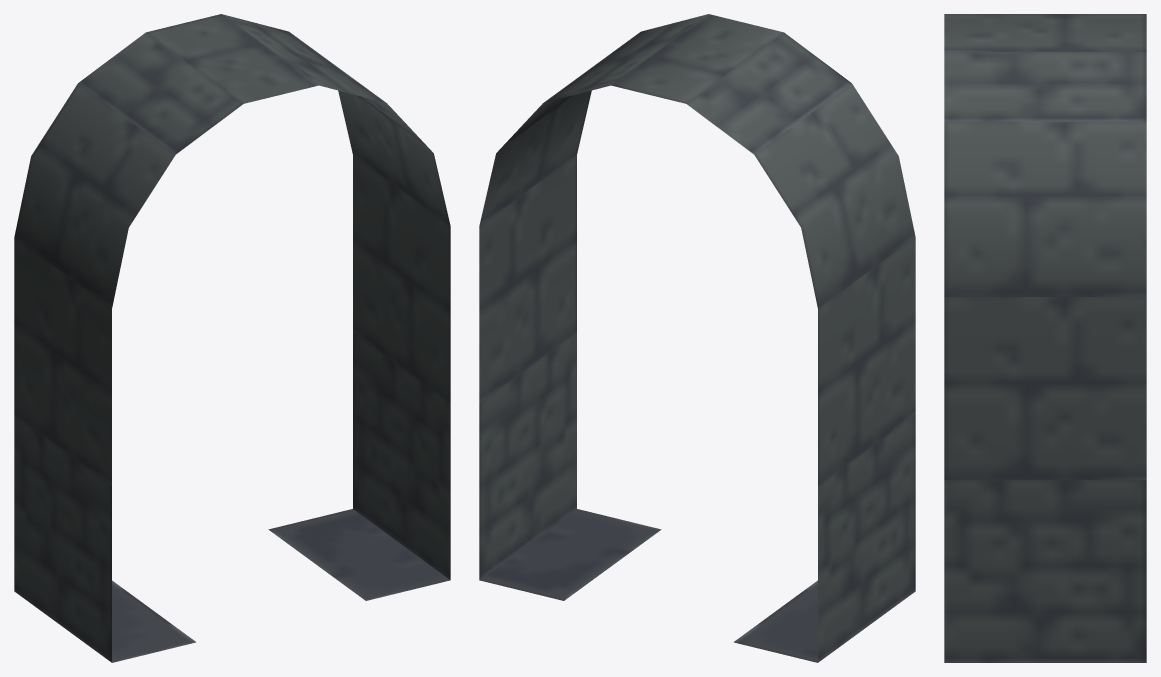
Rendered from arch_inside_medium.fbx.
The picture shows the model from 3 angles, left to right: view 1: azimuth 30°, elevation 25°; view 2: azimuth 150°, elevation 25°; view 3: azimuth 270°, elevation 25°; orthographic projection. The views are drawn at different scales.
Parts seen in each view (by area): view 1: arch_inside_medium; view 2: arch_inside_medium; view 3: arch_inside_medium.
Part boxes in pixels (x1,y1,x2,y2): arch_inside_medium: [14, 14, 450, 662]; arch_inside_medium: [479, 14, 915, 662]; arch_inside_medium: [944, 14, 1146, 662].
Bounding box in the file's own units: 32 × 47.6 × 16.
